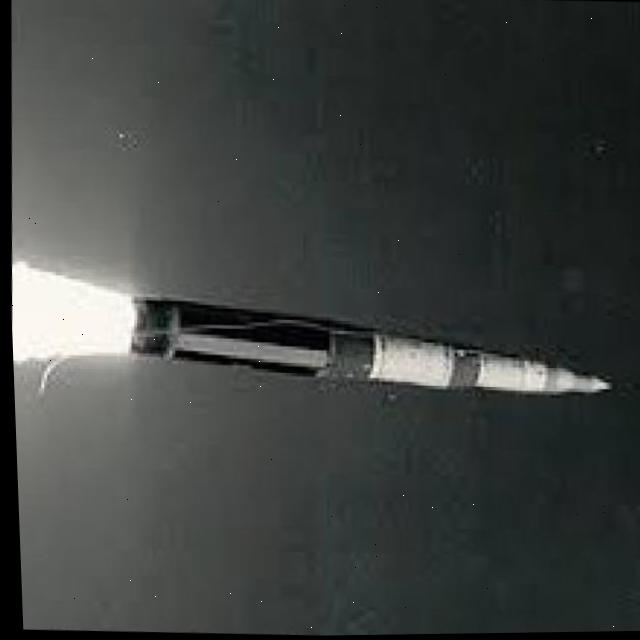missile: (125, 286, 609, 410)
